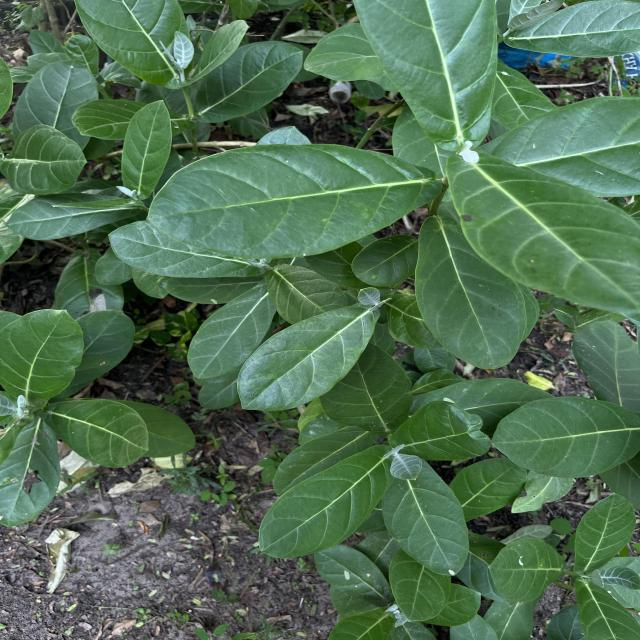Calotropis gigantea: (145, 142, 445, 260), (442, 150, 640, 318), (412, 215, 528, 372), (234, 298, 383, 412), (256, 444, 394, 560), (487, 393, 640, 479), (382, 452, 473, 578), (187, 280, 283, 380), (0, 306, 87, 409), (42, 398, 150, 468), (0, 122, 89, 196), (119, 99, 174, 198)
